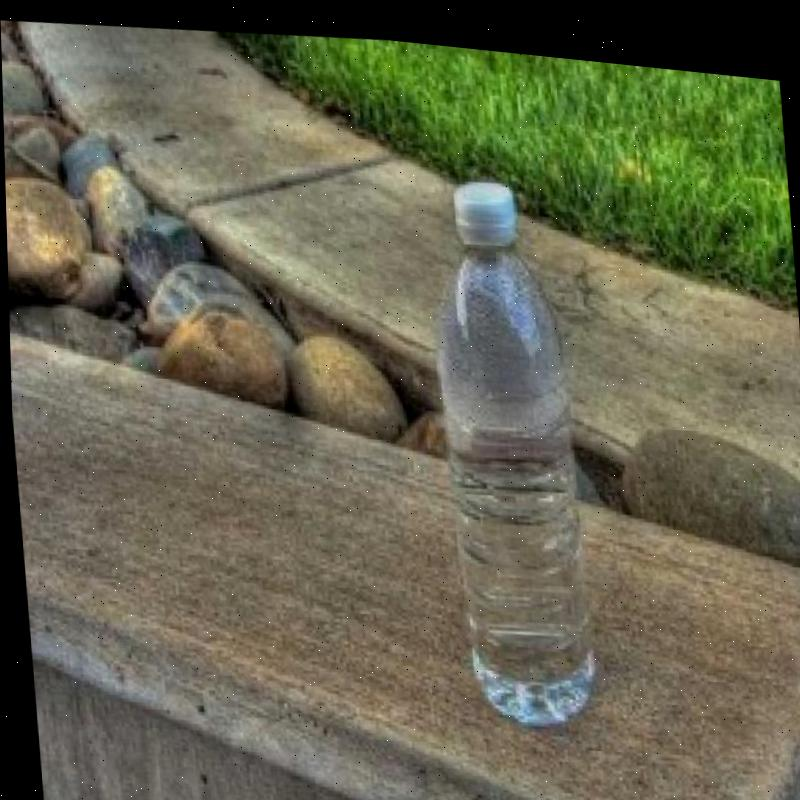botella: (421, 160, 597, 723)
